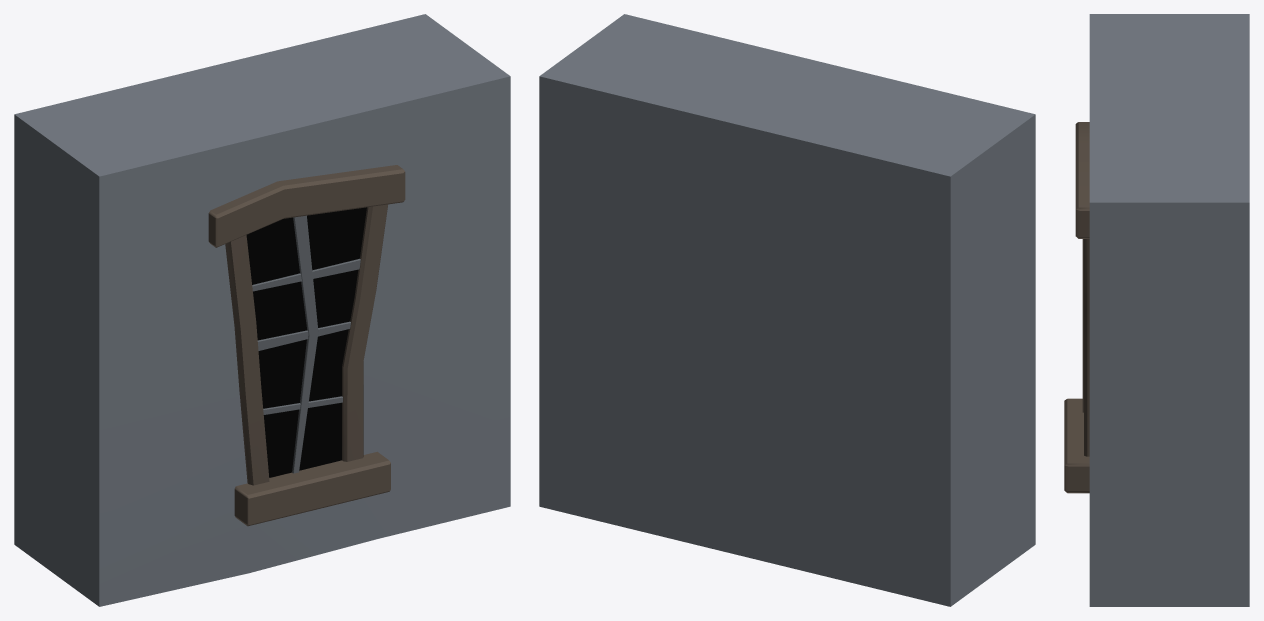
File: FenetreMur2.fbx
The picture shows the model from 3 angles, left to right: view 1: azimuth 30°, elevation 25°; view 2: azimuth 150°, elevation 25°; view 3: azimuth 270°, elevation 25°; orthographic projection. The views are drawn at different scales.
Visible parts, largest first — view 1: Mur, Vitre, Rebord_Fenetre, Rebord_Fenetre3, Rebord_Fenetre2, Rebord_Fenetre1, Baton_Fenetre1, Baton_Fenetre, Baton_Fenetre3; view 2: Mur; view 3: Mur, Rebord_Fenetre3, Rebord_Fenetre, Rebord_Fenetre1, Rebord_Fenetre2.
Part boxes in pixels (x1=…): Mur: x1=14, y1=14, x2=510, y2=606; Vitre: x1=246, y1=207, x2=366, y2=477; Rebord_Fenetre: x1=208, y1=165, x2=405, y2=247; Rebord_Fenetre3: x1=234, y1=451, x2=390, y2=526; Rebord_Fenetre2: x1=225, y1=235, x2=269, y2=485; Rebord_Fenetre1: x1=342, y1=204, x2=388, y2=461; Baton_Fenetre1: x1=292, y1=215, x2=318, y2=473; Baton_Fenetre: x1=252, y1=258, x2=360, y2=291; Baton_Fenetre3: x1=257, y1=321, x2=350, y2=350; Mur: x1=539, y1=14, x2=1035, y2=606; Mur: x1=1089, y1=14, x2=1249, y2=606; Rebord_Fenetre3: x1=1064, y1=398, x2=1089, y2=493; Rebord_Fenetre: x1=1075, y1=122, x2=1089, y2=238; Rebord_Fenetre1: x1=1084, y1=239, x2=1089, y2=456; Rebord_Fenetre2: x1=1082, y1=239, x2=1083, y2=412.
Size of the model in its own units: 3 by 3.02 by 1.25.
